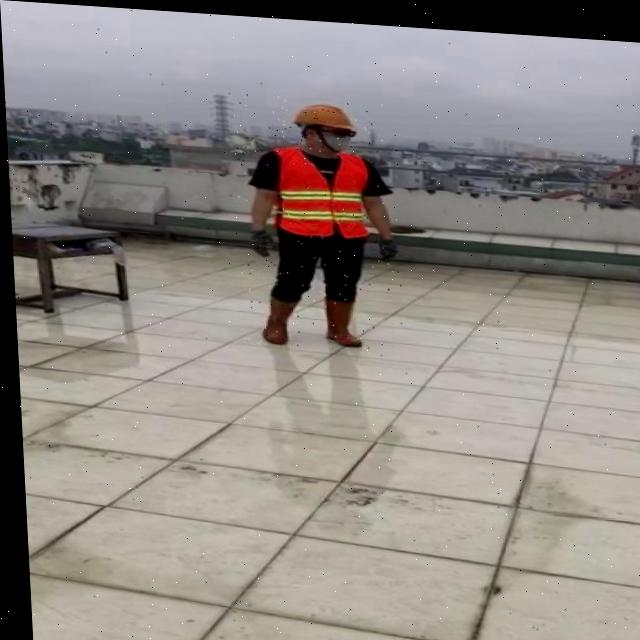Gloves: (247, 225, 270, 254), (375, 232, 397, 256)
Safety-Boot: (258, 289, 297, 342), (322, 292, 360, 342)
Safety-Vest: (270, 140, 372, 237)
